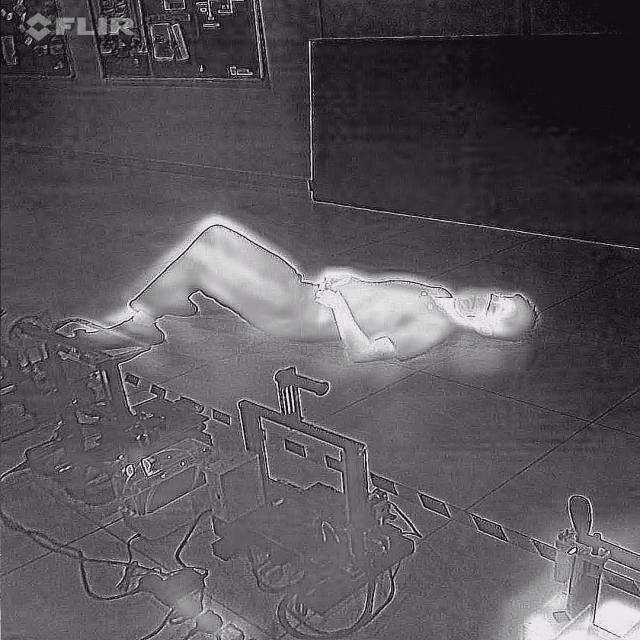Victim: (70, 218, 548, 374)
